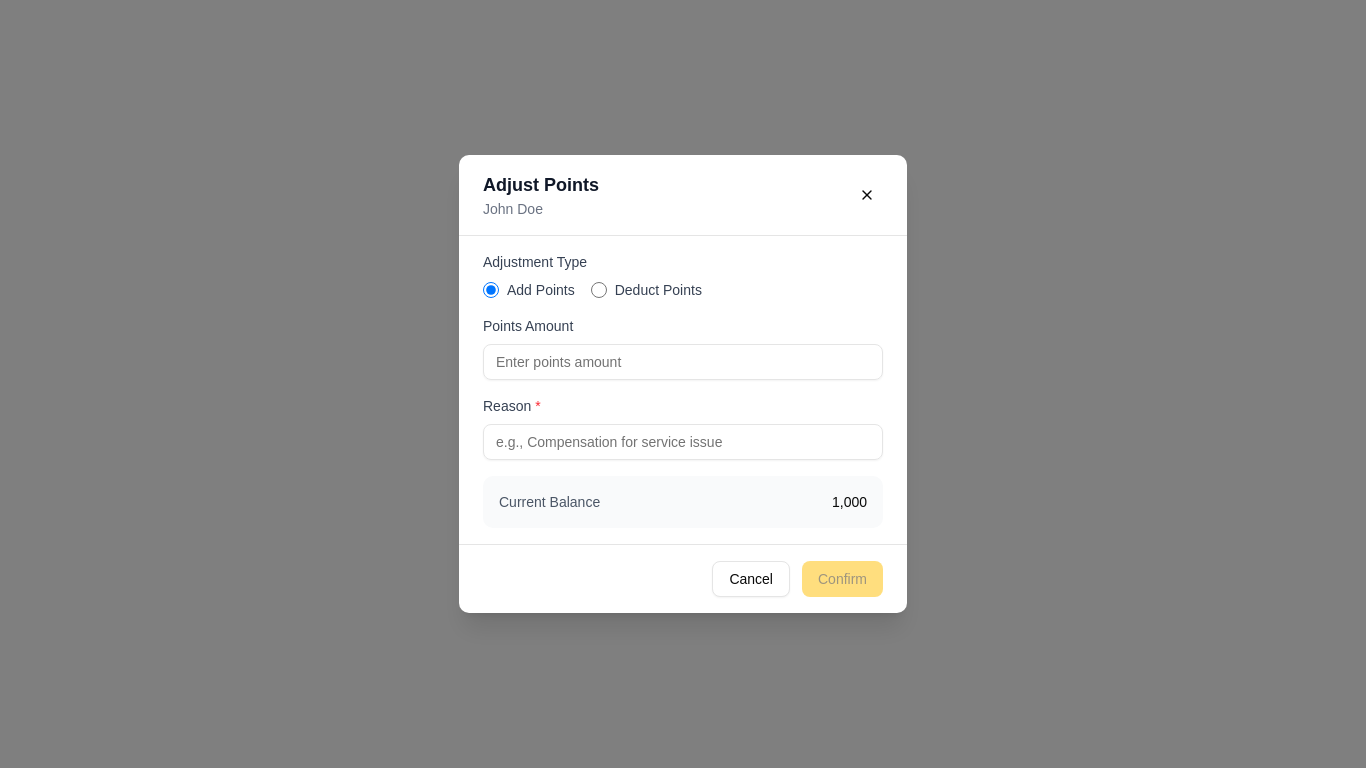
Test: AdjustPointsModal › Form Validation › should enable confirm button when both fields are filled
In the field with placeholder "Enter points amount": (683, 362) x1=483 y1=344 x2=883 y2=380, type "100"
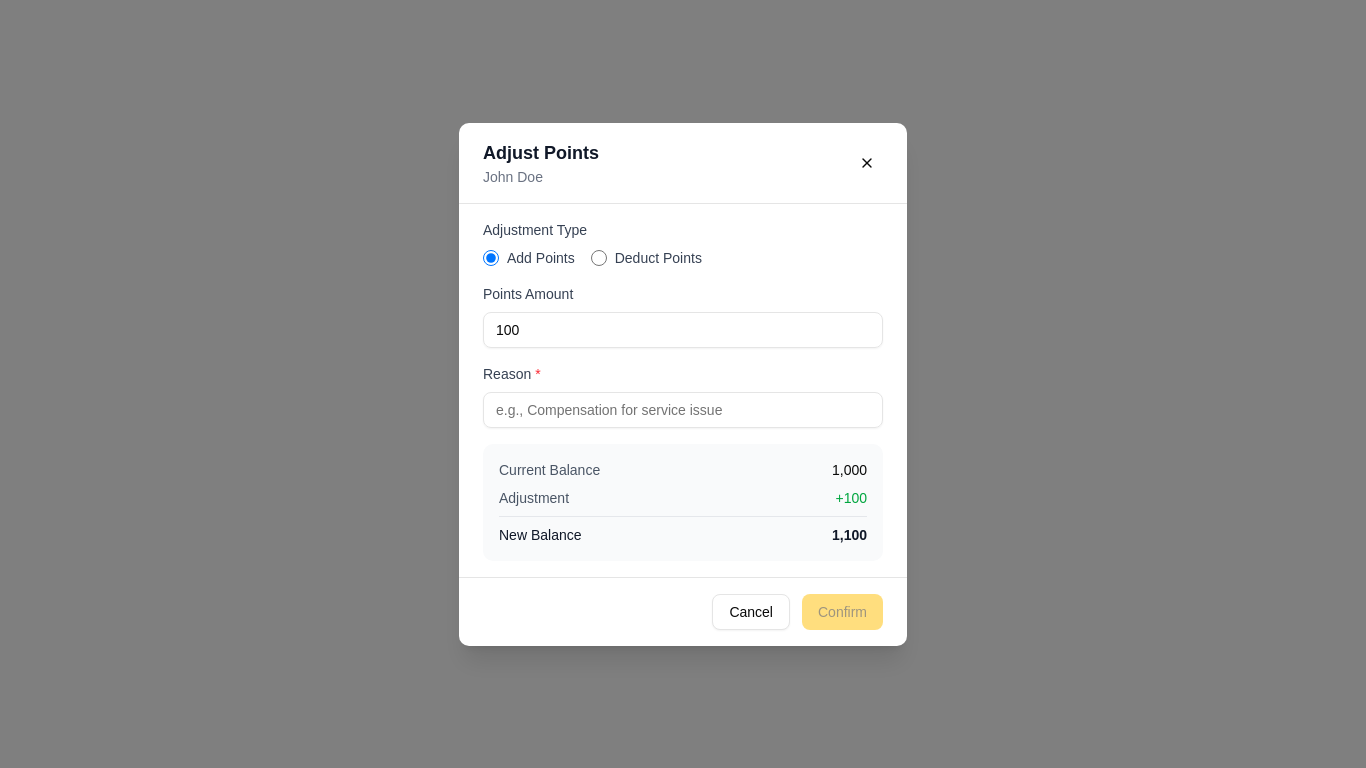
In the field with placeholder "e.g., Compensation for service issue": (683, 410) x1=483 y1=392 x2=883 y2=428, type "Test reason"
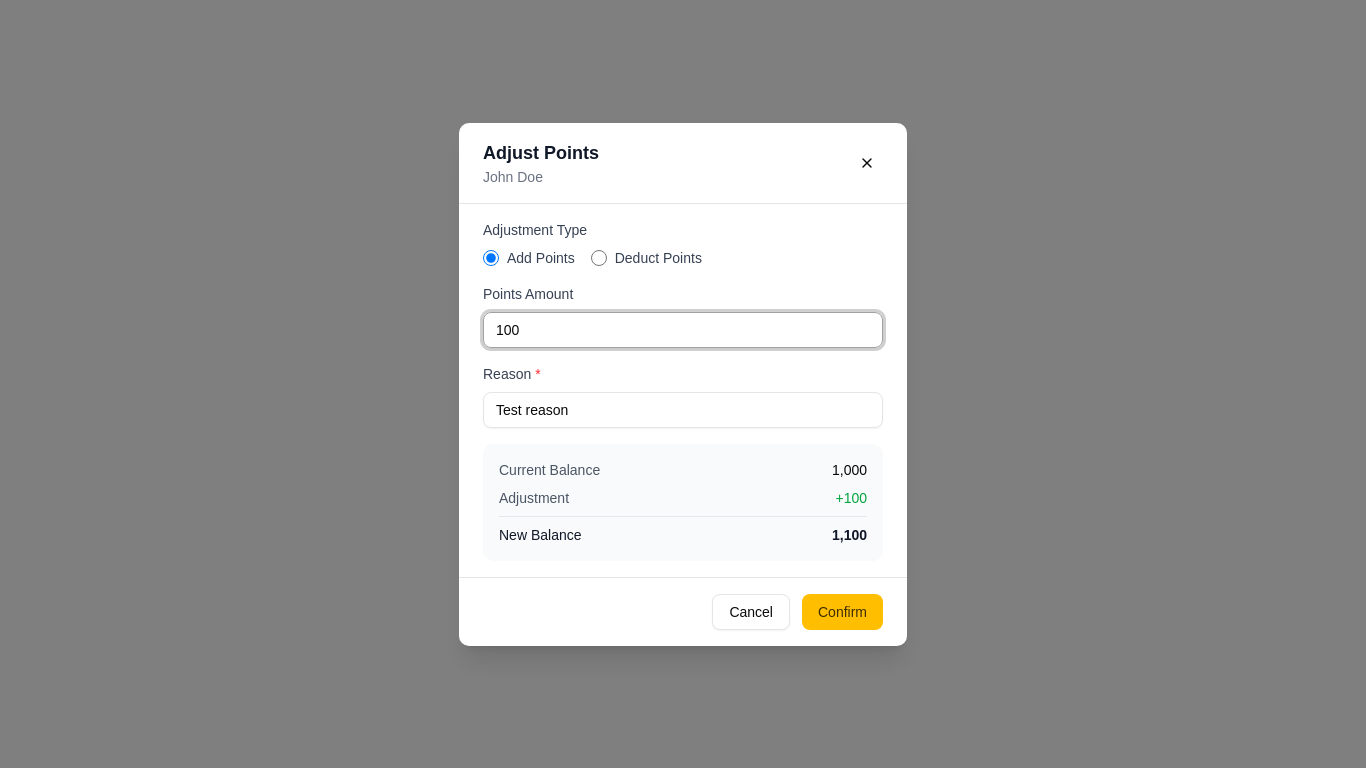
expect the button "Confirm" is enabled: met, box x1=802 y1=594 x2=883 y2=630
